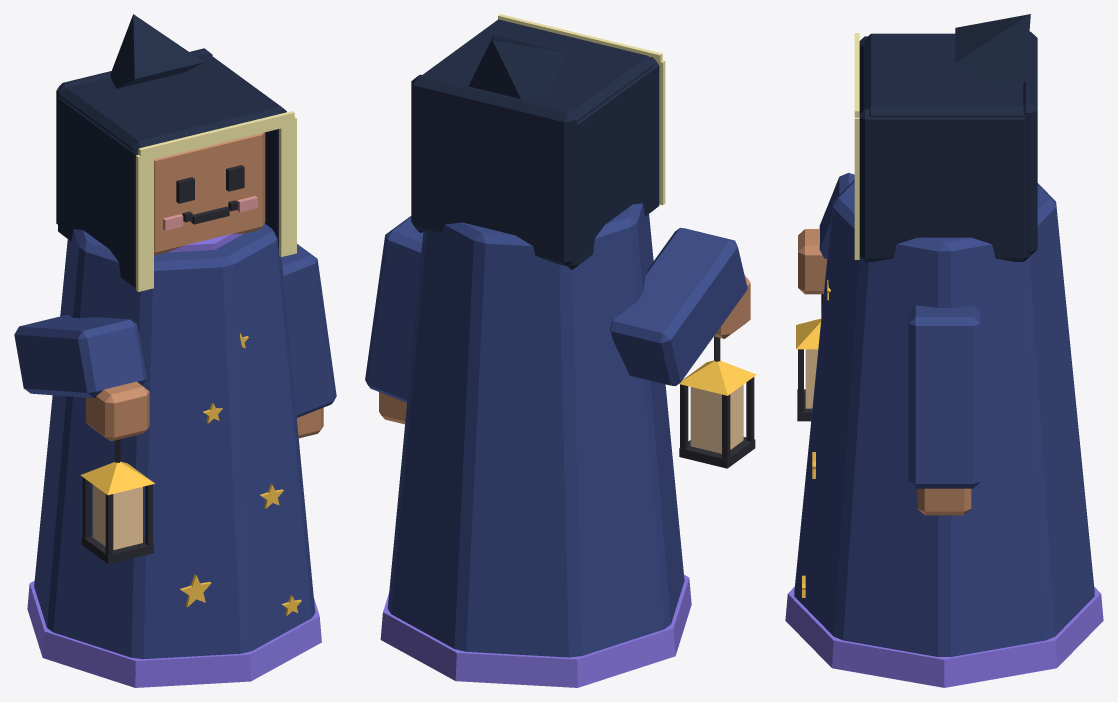
The model's file is CatCafe_NPC_Dealer.glb.
3 renders of one model, left to right at view 1: azimuth 30°, elevation 25°; view 2: azimuth 150°, elevation 25°; view 3: azimuth 270°, elevation 25°, orthographic. The views are drawn at different scales.
Parts seen in each view (by area): view 1: CatCafe_NPC_Dealer_Body, CatCafe_NPC_Dealer_Bulb; view 2: CatCafe_NPC_Dealer_Body, CatCafe_NPC_Dealer_Bulb; view 3: CatCafe_NPC_Dealer_Body, CatCafe_NPC_Dealer_Bulb.
Boxes of the visible parts, x1=… form: CatCafe_NPC_Dealer_Body: x1=14, y1=14, x2=336, y2=687; CatCafe_NPC_Dealer_Bulb: x1=92, y1=484, x2=142, y2=549; CatCafe_NPC_Dealer_Body: x1=365, y1=14, x2=756, y2=687; CatCafe_NPC_Dealer_Bulb: x1=690, y1=384, x2=743, y2=453; CatCafe_NPC_Dealer_Body: x1=785, y1=14, x2=1103, y2=687; CatCafe_NPC_Dealer_Bulb: x1=805, y1=349, x2=818, y2=408.
Bounding box in the file's own units: 2.94 × 5.6 × 2.66.
Materials: 1 (1 with a texture image).
